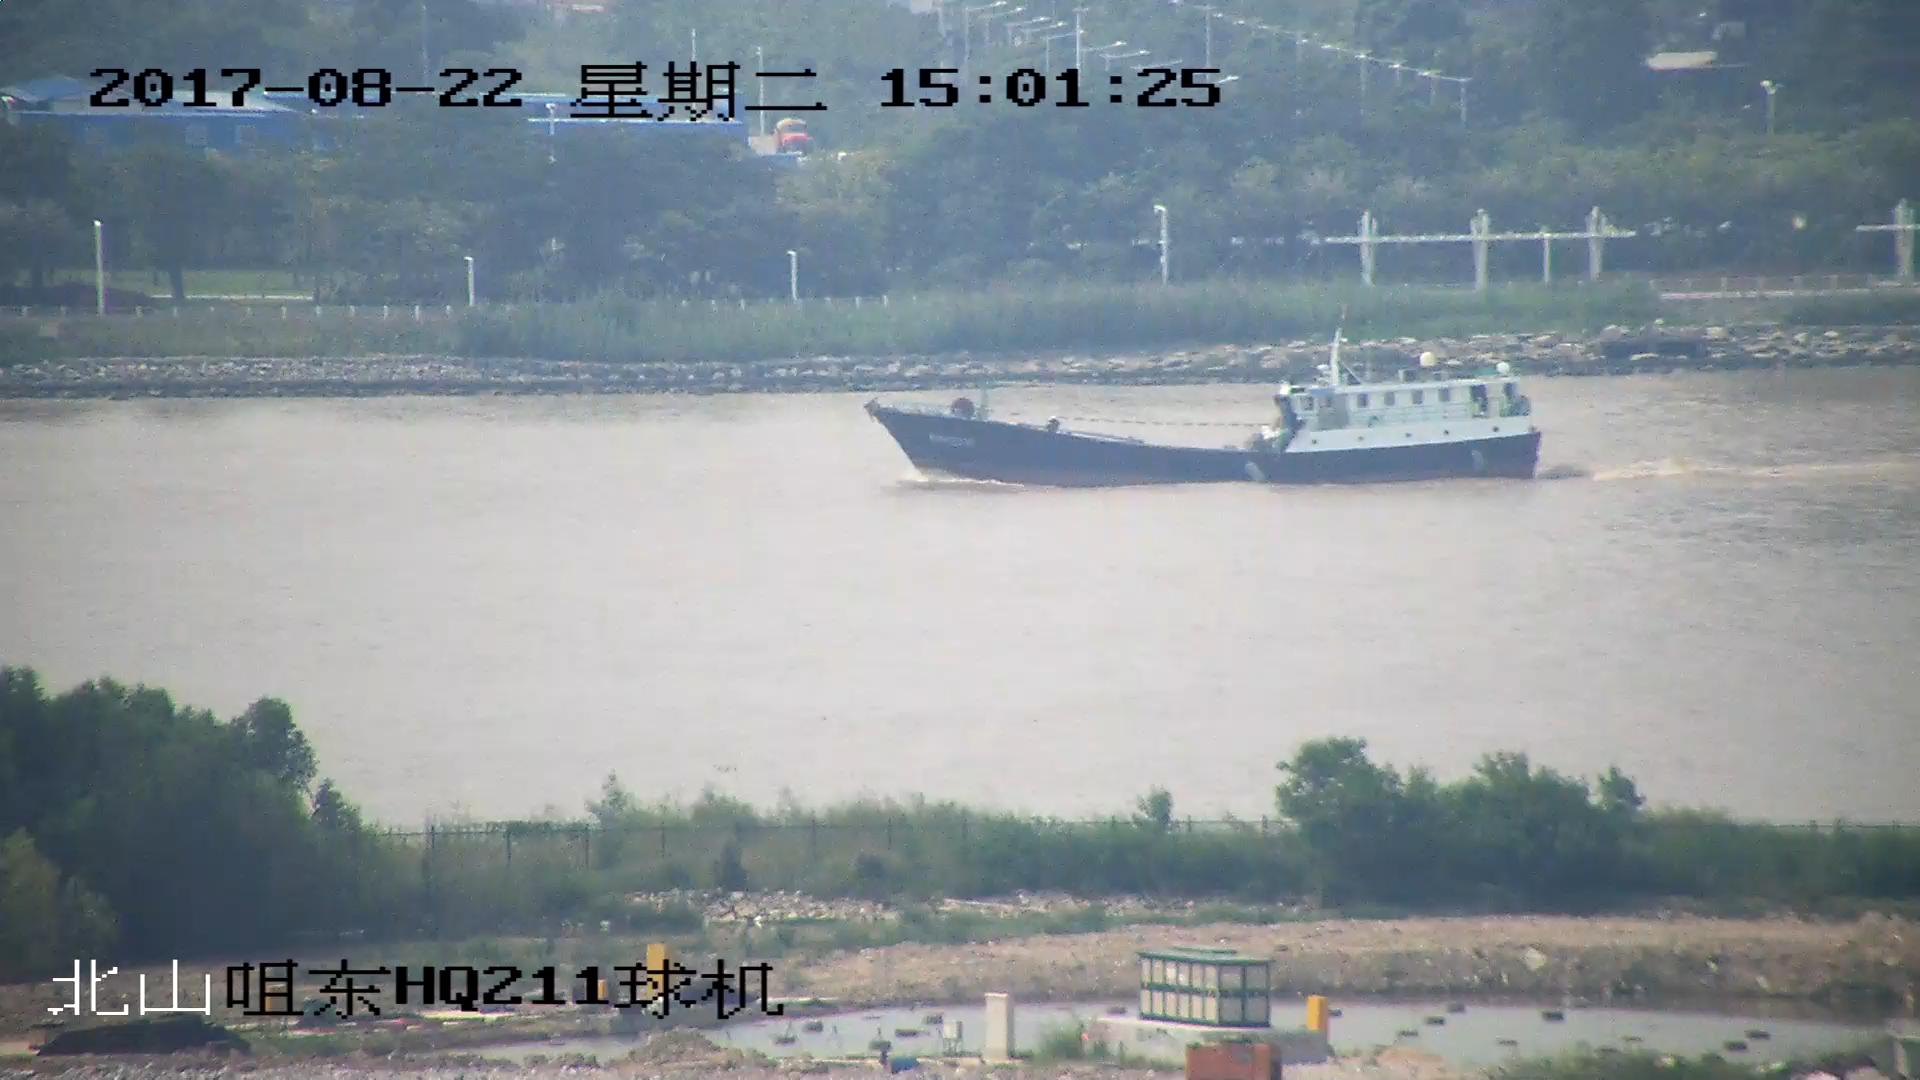fishing boat: (871, 312, 1544, 484)
